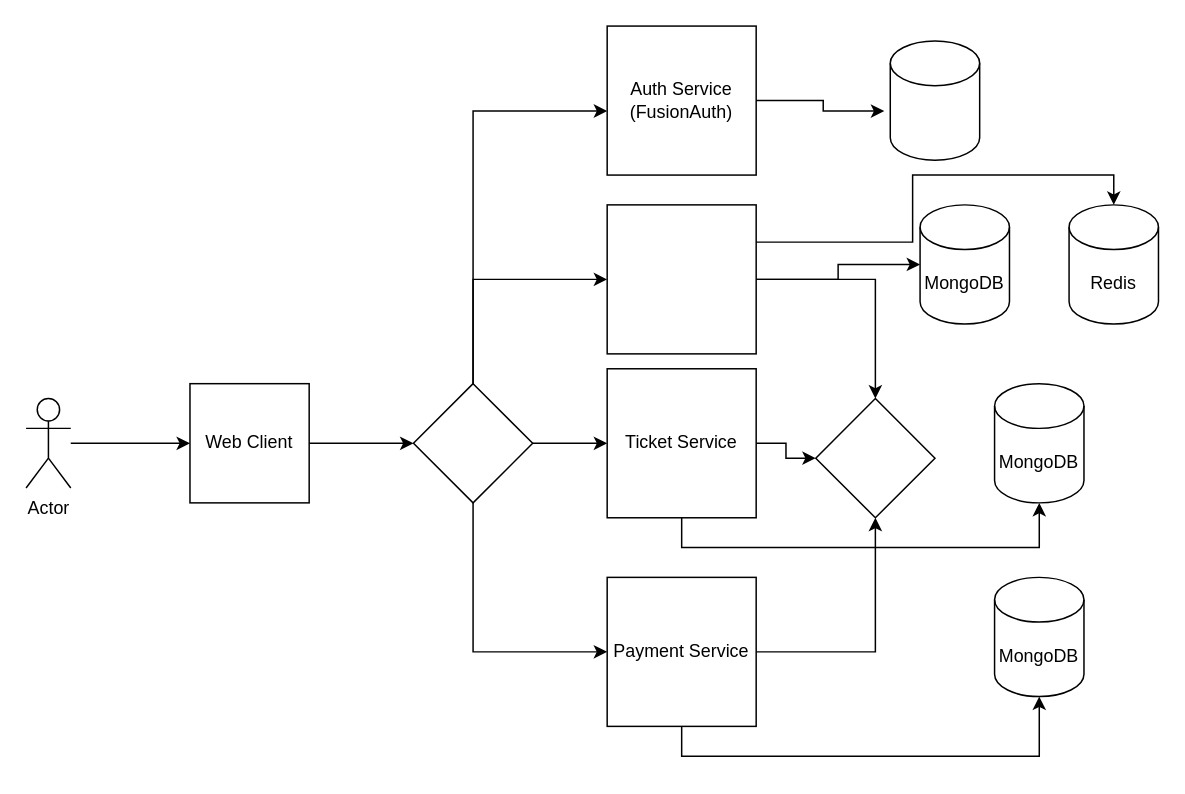
Some shapes in this 1185 by 794 pixel diagram are drawn without their labels. The centre of each missing label's shape, as x and y in pixels:
"Ingres" goes at point (472, 442).
"Order Service" goes at point (681, 278).
"Postgres" goes at point (934, 99).
"RabbitMQ" goes at point (874, 457).
